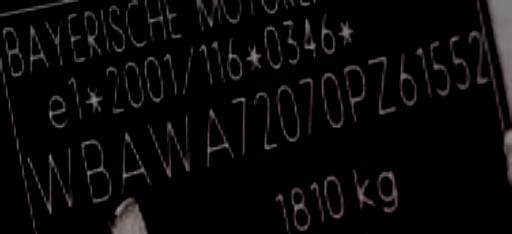letter: (139, 113, 201, 180), (24, 140, 78, 213), (74, 132, 116, 205), (194, 100, 236, 172), (114, 126, 154, 199), (245, 78, 283, 154), (226, 89, 258, 165), (272, 72, 302, 148), (441, 27, 473, 96), (362, 52, 394, 121), (340, 57, 372, 126), (463, 24, 495, 91), (318, 64, 348, 134), (296, 67, 324, 137), (392, 43, 418, 116), (427, 32, 451, 107), (411, 37, 435, 110)
